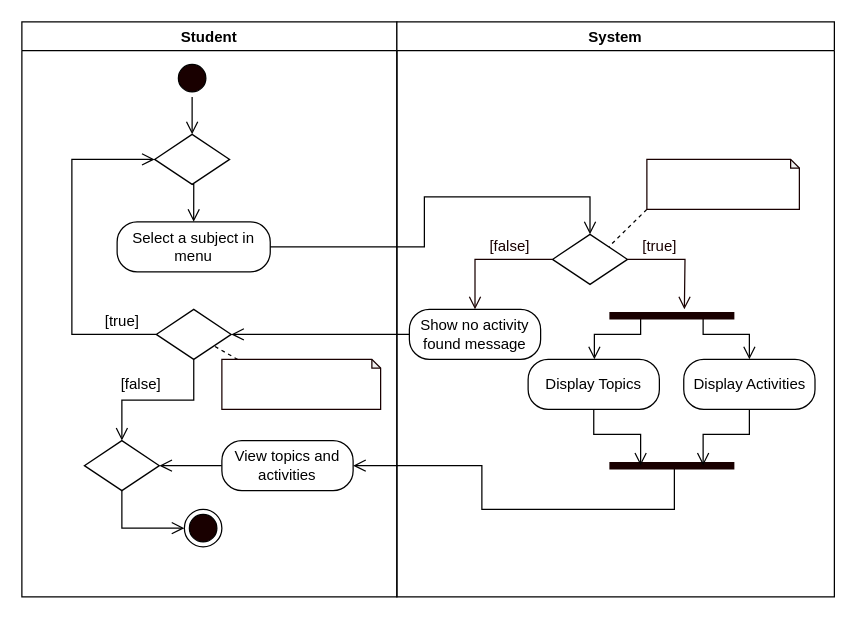
The diagram is 856 pixels wide and 619 high, and some of its shapes have lost their labels. The shapes that lost their labels are listed below. From the top down, each one's centre as x and y in pixels, then its label:
At point 722,183: "check if there's an activity for the subject".
At point 301,383: "check if the user wants to select subjects again".
